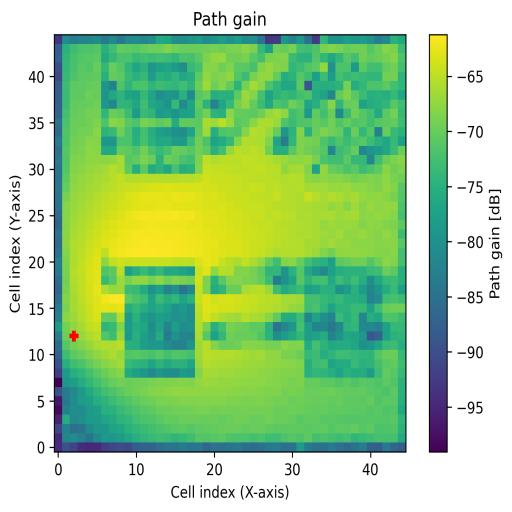Concrete: (305, 54, 383, 173)
Glass: (125, 63, 196, 174)
Metal: (304, 258, 383, 378)
Wood: (124, 267, 194, 376)
